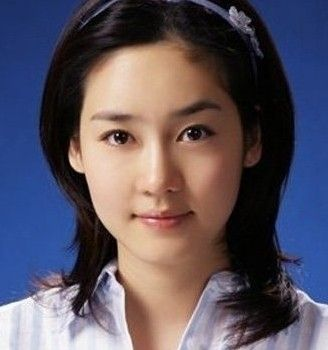unmask: (81, 63, 245, 257)
